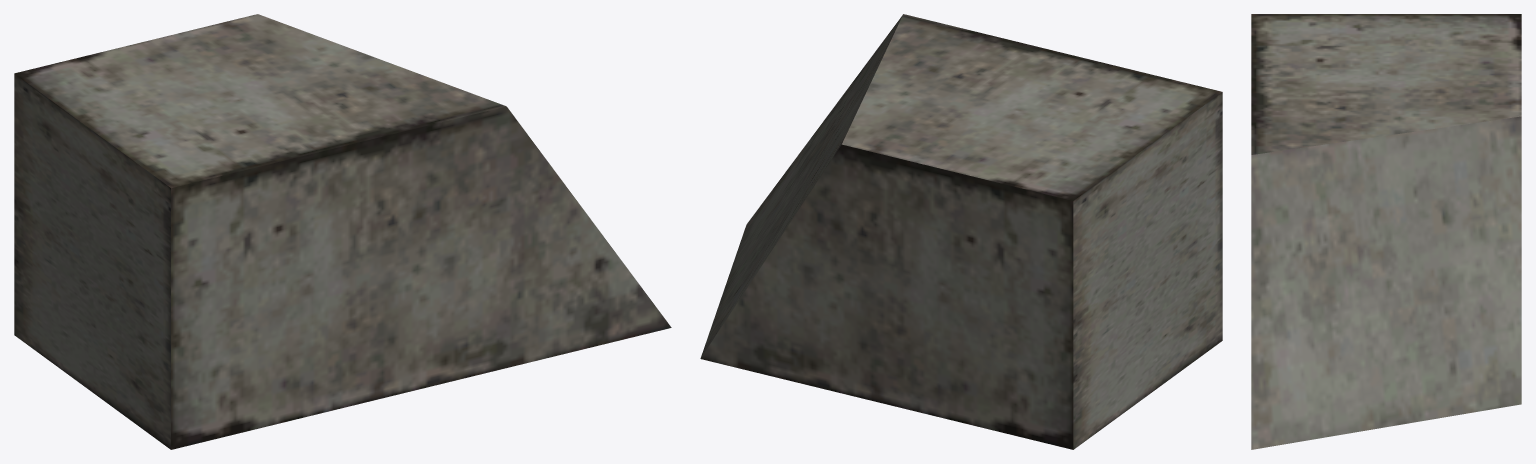
File: ind_ext_brick_wall_a_single_brick_broken.glb
3 views of the same model, side by side, from view 1: azimuth 30°, elevation 25°; view 2: azimuth 150°, elevation 25°; view 3: azimuth 270°, elevation 25° (orthographic). The views are drawn at different scales.
Parts seen in each view (by area): view 1: g_brick_broken; view 2: g_brick_broken; view 3: g_brick_broken.
Part boxes in pixels (x1,y1,x2,y2): g_brick_broken: [14, 14, 671, 449]; g_brick_broken: [700, 14, 1222, 449]; g_brick_broken: [1251, 14, 1521, 449].
Size of the model in its own units: 0.4602 by 0.2299 by 0.2498.
Materials: 1 (1 with a texture image).
